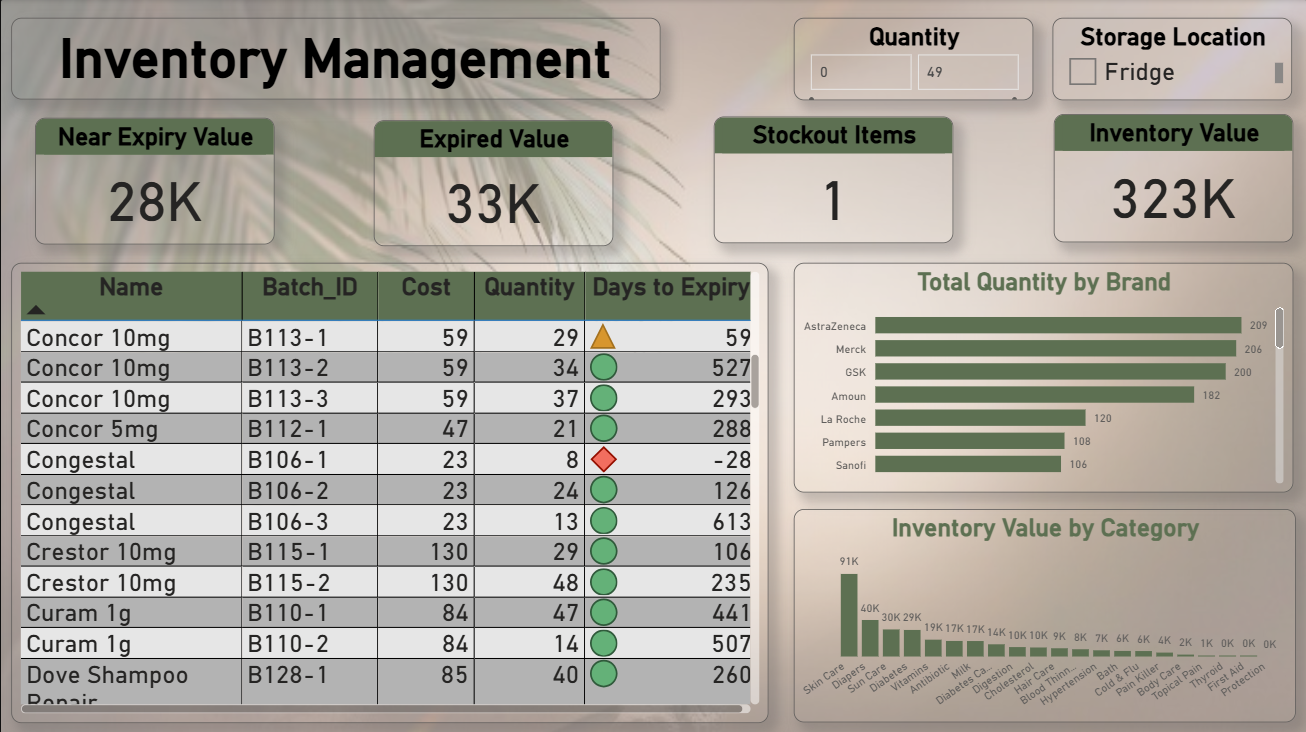

The page's visual inventory and layout, read from the dashboard file:
{"tool":"powerbi","page":{"name":"Inventory Management","canvas":[1280,720],"ordinal":1},"visuals":[{"type":"card","title":"Expired Value","fields":{"Values":["Table.Expired Value"]},"box":[366,118.4,234.7,122.8],"z":0},{"type":"card","title":"Near Expiry Value","fields":{"Values":["Table.Near Expiry Value"]},"box":[33.8,116.4,234.7,124.2],"z":1000},{"type":"card","title":"Stockout Items","fields":{"Values":["Table.Stockout Items"]},"box":[698.1,114.4,234.7,124.2],"z":2000},{"type":"card","title":"Inventory Value","fields":{"Values":["Table.Inventory Value"]},"box":[1030.3,111.9,234.7,125.5],"z":3000},{"type":"columnChart","title":"Inventory Value by Category","fields":{"Category":["Dim_Products.Category","Dim_Products.SubCategory"],"Y":["Table.Inventory Value"]},"box":[776.6,499.3,491.4,208.5],"z":4000},{"type":"textbox","box":[10.5,18.4,634.9,80.3],"z":5000},{"type":"tableEx","fields":{"Values":["Dim_Products.Name","Fact_Inventory.Batch_ID","Dim_Products.Cost","Sum(Fact_Inventory.Quantity_On_Hand)","Table.Days to Expiry"]},"box":[11,258,741,450],"z":6000},{"type":"slicer","title":"Quantity","fields":{"Values":["Fact_Inventory.Quantity_On_Hand"]},"box":[776.5,18.3,234.8,80.7],"z":7000},{"type":"slicer","title":"Storage Location","fields":{"Values":["Dim_Storage_Location.Storage_Location"]},"box":[1029.6,18.3,234.8,80.7],"z":8000},{"type":"clusteredBarChart","title":"Total Quantity by Brand","fields":{"Y":["Sum(Fact_Inventory.Quantity_On_Hand)"],"Category":["Dim_Products.Brand"]},"box":[776.5,257.9,488.5,225.2],"z":9000}]}

Visuals, with their boxes in screenshot pixels (x1, y1, x2, y2), scaled from the page's 1280x720 canvas onto the 1306x732 screenshot:
"Expired Value" card: crop(373, 120, 613, 245)
"Near Expiry Value" card: crop(34, 118, 274, 245)
"Stockout Items" card: crop(712, 116, 952, 243)
"Inventory Value" card: crop(1051, 114, 1291, 241)
"Inventory Value by Category" columnChart: crop(792, 508, 1294, 720)
textbox: crop(11, 19, 659, 100)
tableEx - Dim_Products.Name x Fact_Inventory.Batch_ID: crop(11, 262, 767, 720)
"Quantity" slicer: crop(792, 19, 1032, 101)
"Storage Location" slicer: crop(1051, 19, 1290, 101)
"Total Quantity by Brand" clusteredBarChart: crop(792, 262, 1291, 491)
